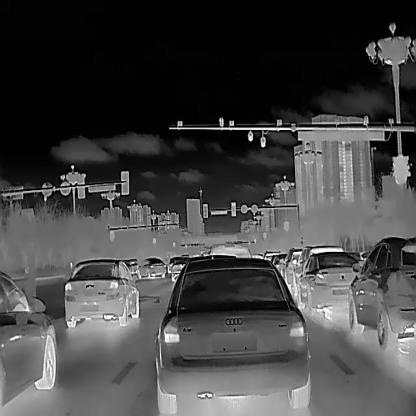car: (156, 255, 311, 411), (349, 235, 415, 351), (0, 270, 55, 408), (64, 256, 139, 326), (296, 250, 358, 314), (292, 243, 342, 295), (282, 248, 302, 283), (138, 256, 166, 277), (170, 256, 191, 280)
